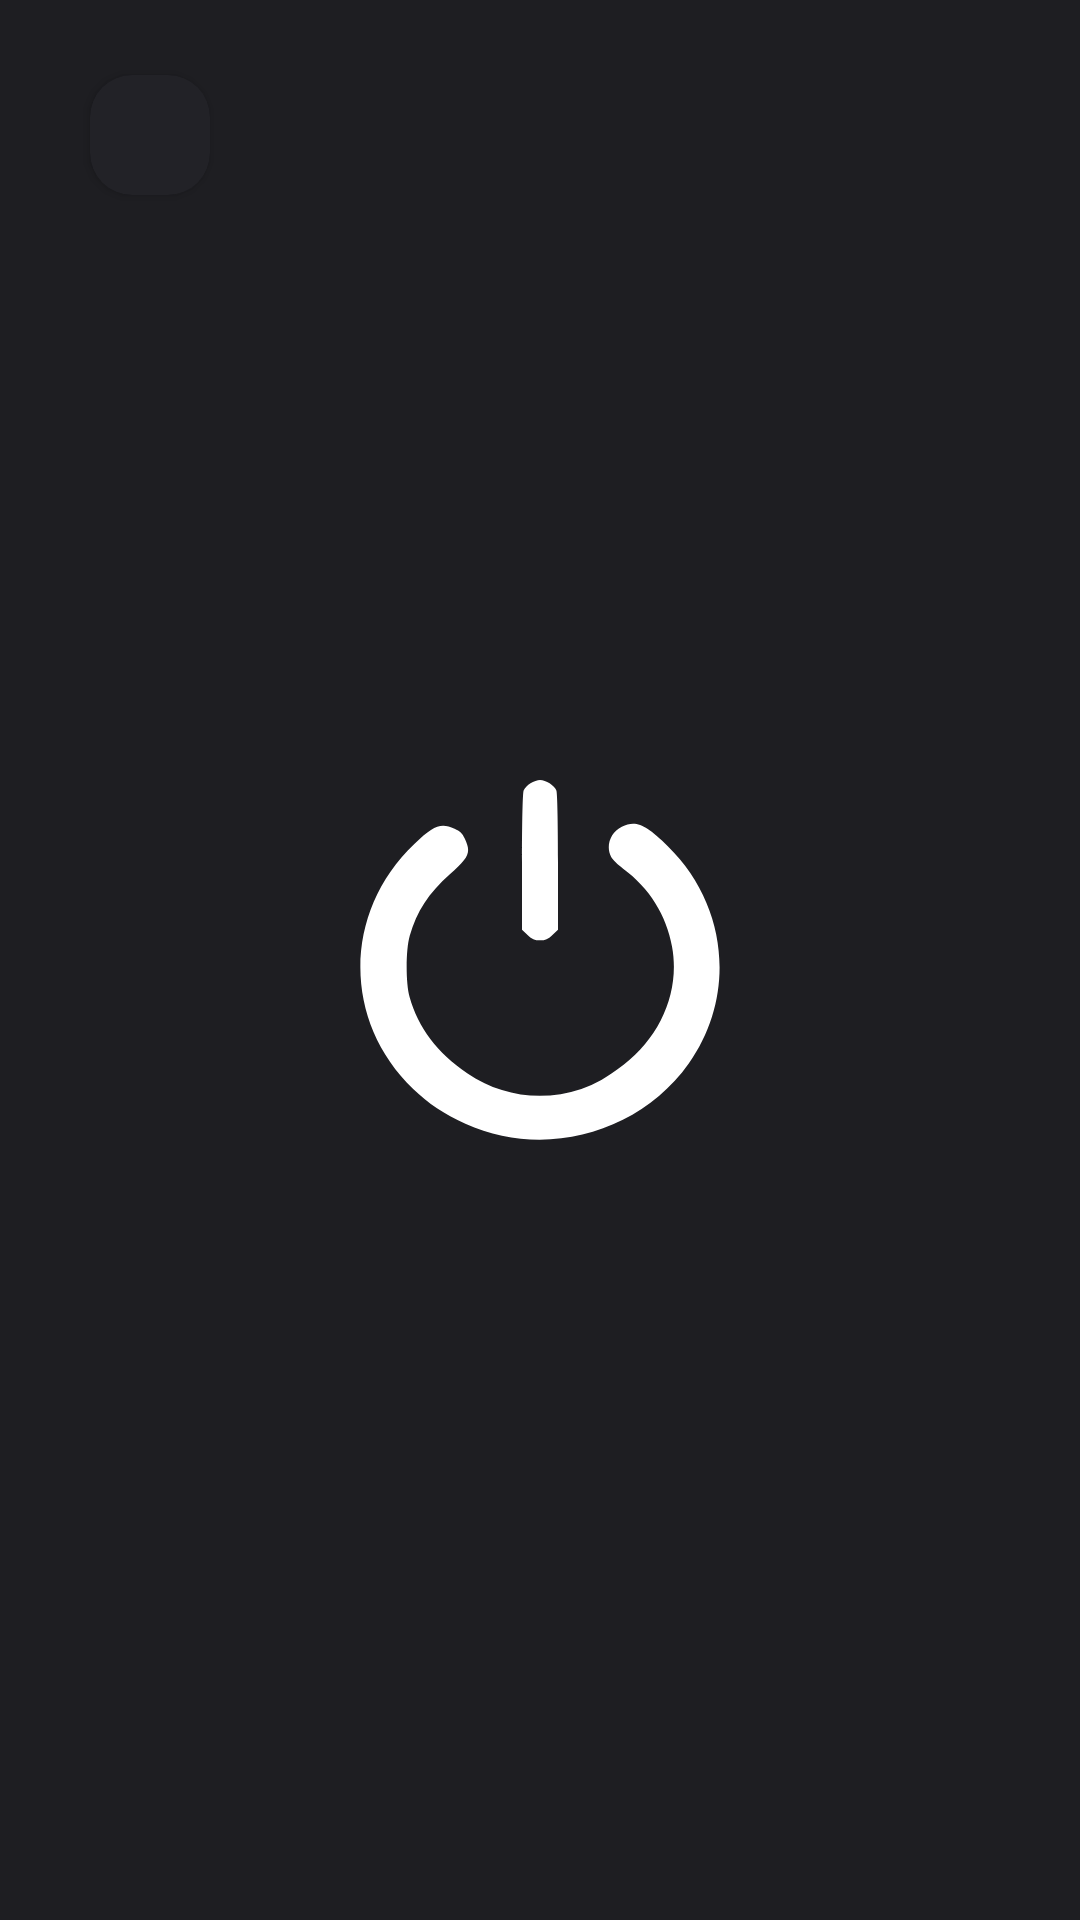

Icons on this 1080×1920 Android screen, each with the point to tap as (x,y):
signout: (540,960)
